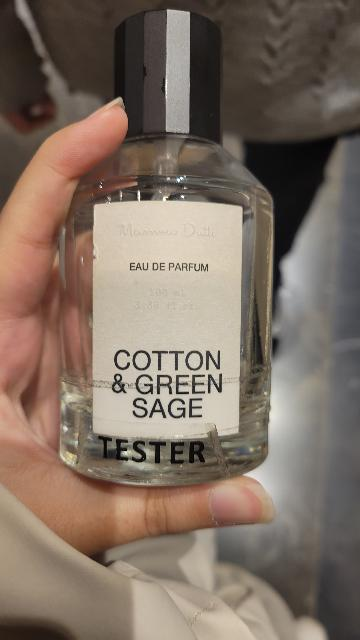Cam: (46, 137, 270, 483)
Kagit: (95, 205, 241, 436)
Plastik: (110, 6, 223, 137)
